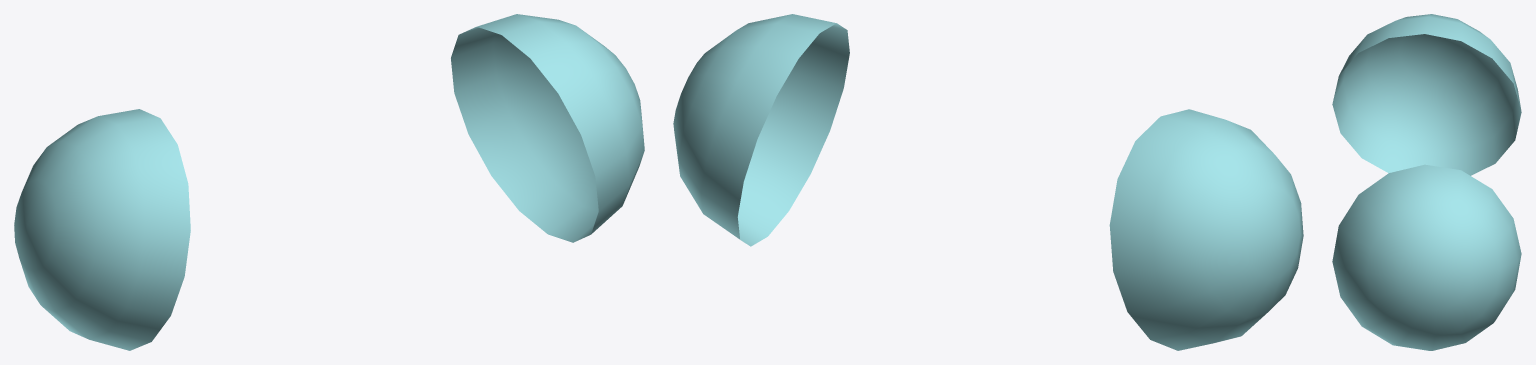
File: Caridid_Exported_Eyes.fbx
The picture shows the model from 3 angles, left to right: view 1: azimuth 30°, elevation 25°; view 2: azimuth 150°, elevation 25°; view 3: azimuth 270°, elevation 25°; orthographic projection. The views are drawn at different scales.
Parts seen in each view (by area): view 1: Eye_low.001; view 2: Eye_low.001; view 3: Eye_low.001.
Boxes of the visible parts, x1=… form: Eye_low.001: x1=14, y1=14, x2=644, y2=350; Eye_low.001: x1=673, y1=14, x2=1303, y2=350; Eye_low.001: x1=1332, y1=14, x2=1521, y2=350.
Bounding box in the file's own units: 0.277 × 0.0953 × 0.0967.
